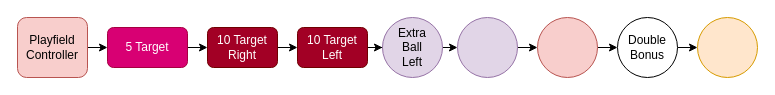
The diagram is 775 pixels wide and 95 high, and some of its shapes have lost their labels. Here are the shapes that lost their labels. From the top down, the centre of each, then its label:
point (487, 47): Extra Ball Right
point (567, 47): Special
point (727, 47): Shoot Again
